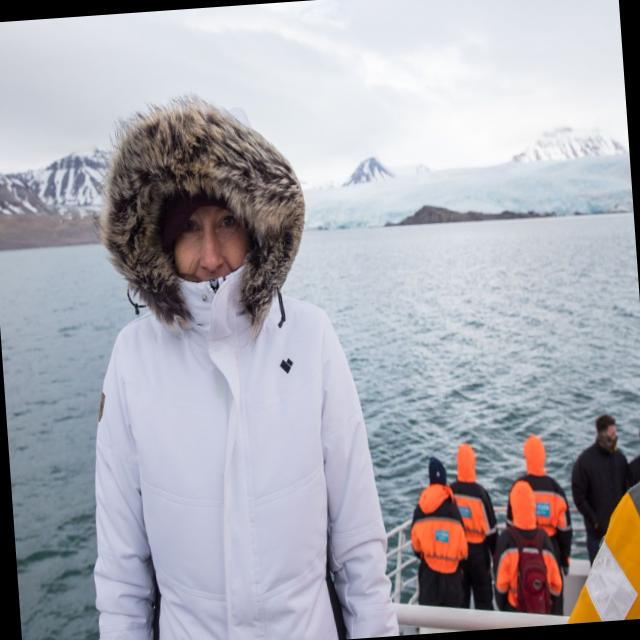Jacket: (68, 263, 397, 640), (564, 442, 637, 558), (488, 526, 571, 622), (404, 478, 468, 585), (498, 474, 576, 548), (438, 478, 494, 548)
